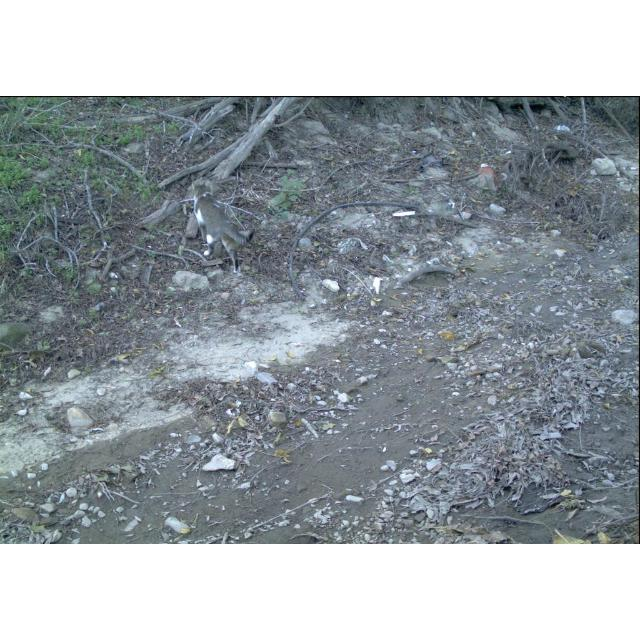animals: (191, 177, 259, 277)
